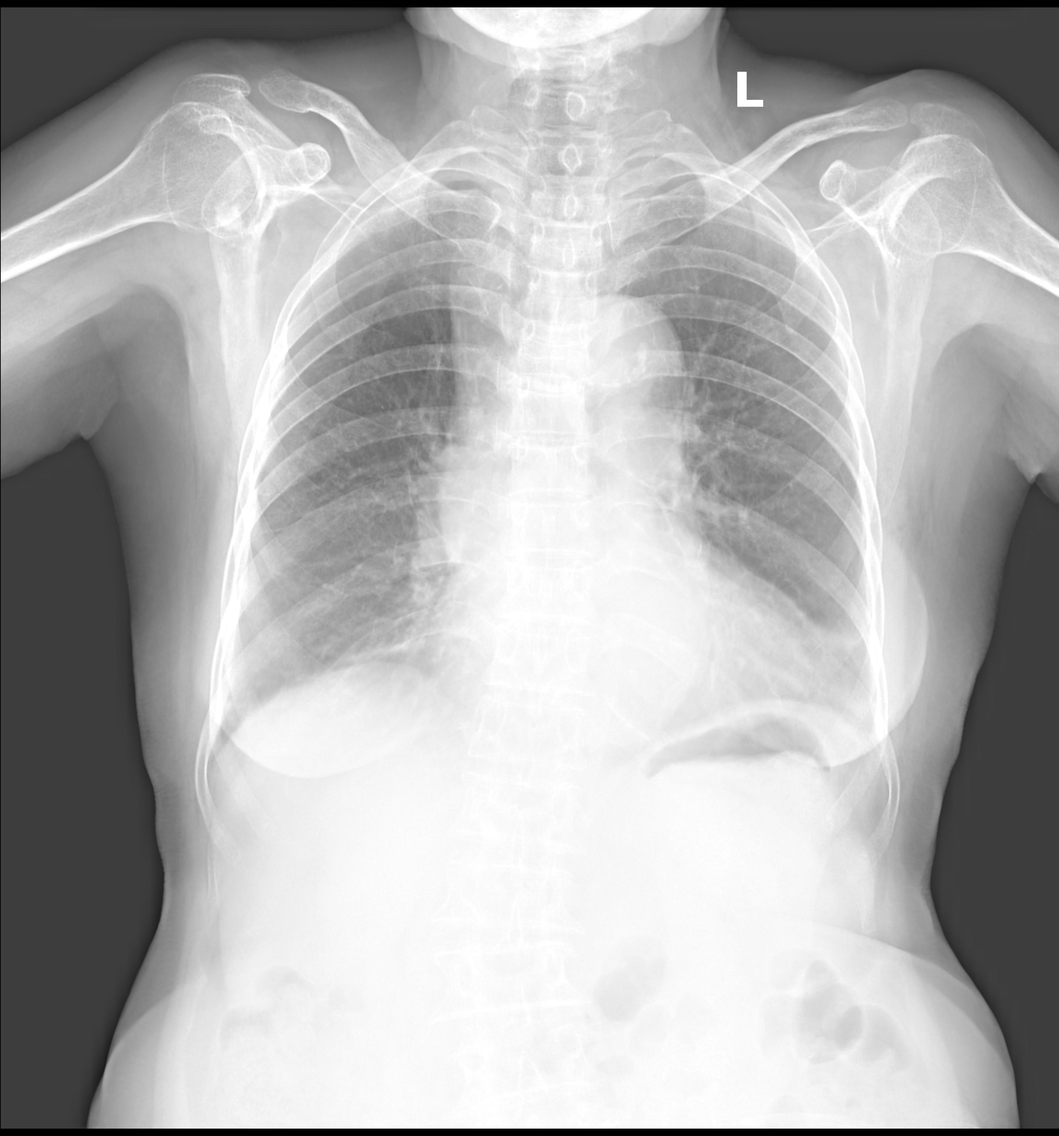Aortic enlargement: (558, 294, 686, 468)
Cardiomegaly: (432, 603, 837, 710)
